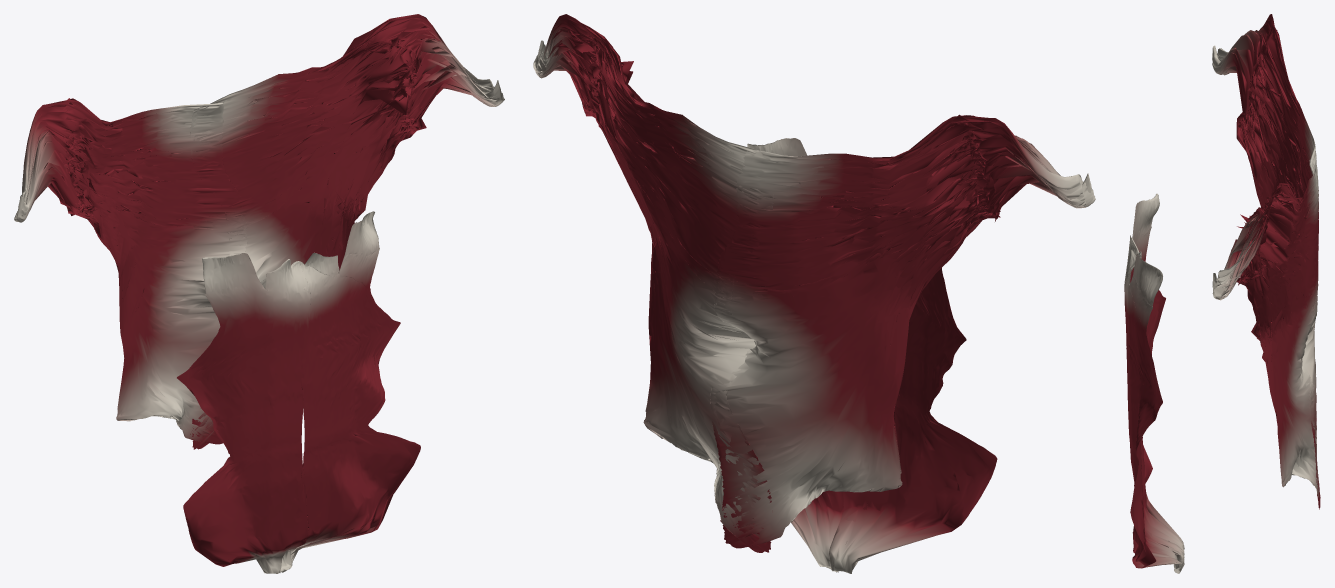
Rendered from axon-sippy-high-sa.glb.
3 renders of one model, left to right at view 1: azimuth 30°, elevation 25°; view 2: azimuth 150°, elevation 25°; view 3: azimuth 270°, elevation 25°, orthographic. The views are drawn at different scales.
Parts seen in each view (by area): view 1: muscles / tissue; view 2: muscles / tissue; view 3: muscles / tissue.
Boxes of the visible parts, left/top/right/bottom form: muscles / tissue: left=14, top=14, right=504, bottom=573; muscles / tissue: left=533, top=14, right=1095, bottom=573; muscles / tissue: left=1124, top=14, right=1320, bottom=573.
Size of the model in its own units: 0.4276 by 0.3988 by 0.1518.
